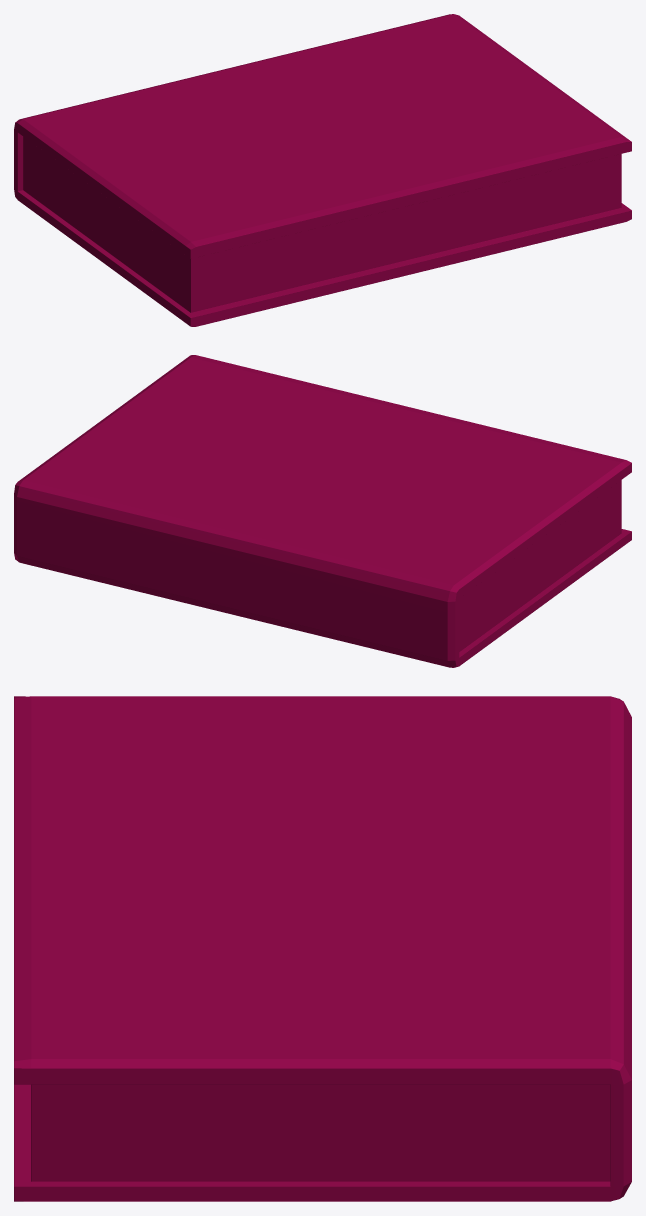
Rendered from Book_02.fbx.
3 renders of one model, top to bottom at view 1: azimuth 30°, elevation 25°; view 2: azimuth 150°, elevation 25°; view 3: azimuth 270°, elevation 25°, orthographic. The views are drawn at different scales.
Visible parts, largest first — view 1: Book_02; view 2: Book_02; view 3: Book_02.
Boxes of the visible parts, left/top/right/bottom form: Book_02: left=14, top=14, right=631, bottom=326; Book_02: left=14, top=355, right=631, bottom=667; Book_02: left=14, top=696, right=631, bottom=1201.
Bounding box in the file's own units: 127 × 22.78 × 89.49.
